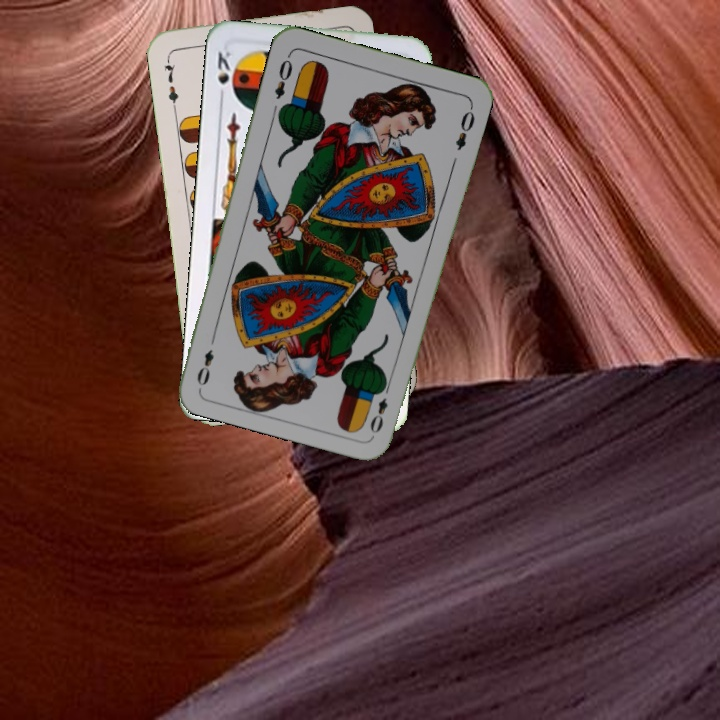E7: (159, 53, 181, 112)
EO: (366, 379, 393, 437), (270, 50, 295, 102)
SK: (213, 47, 233, 104)
